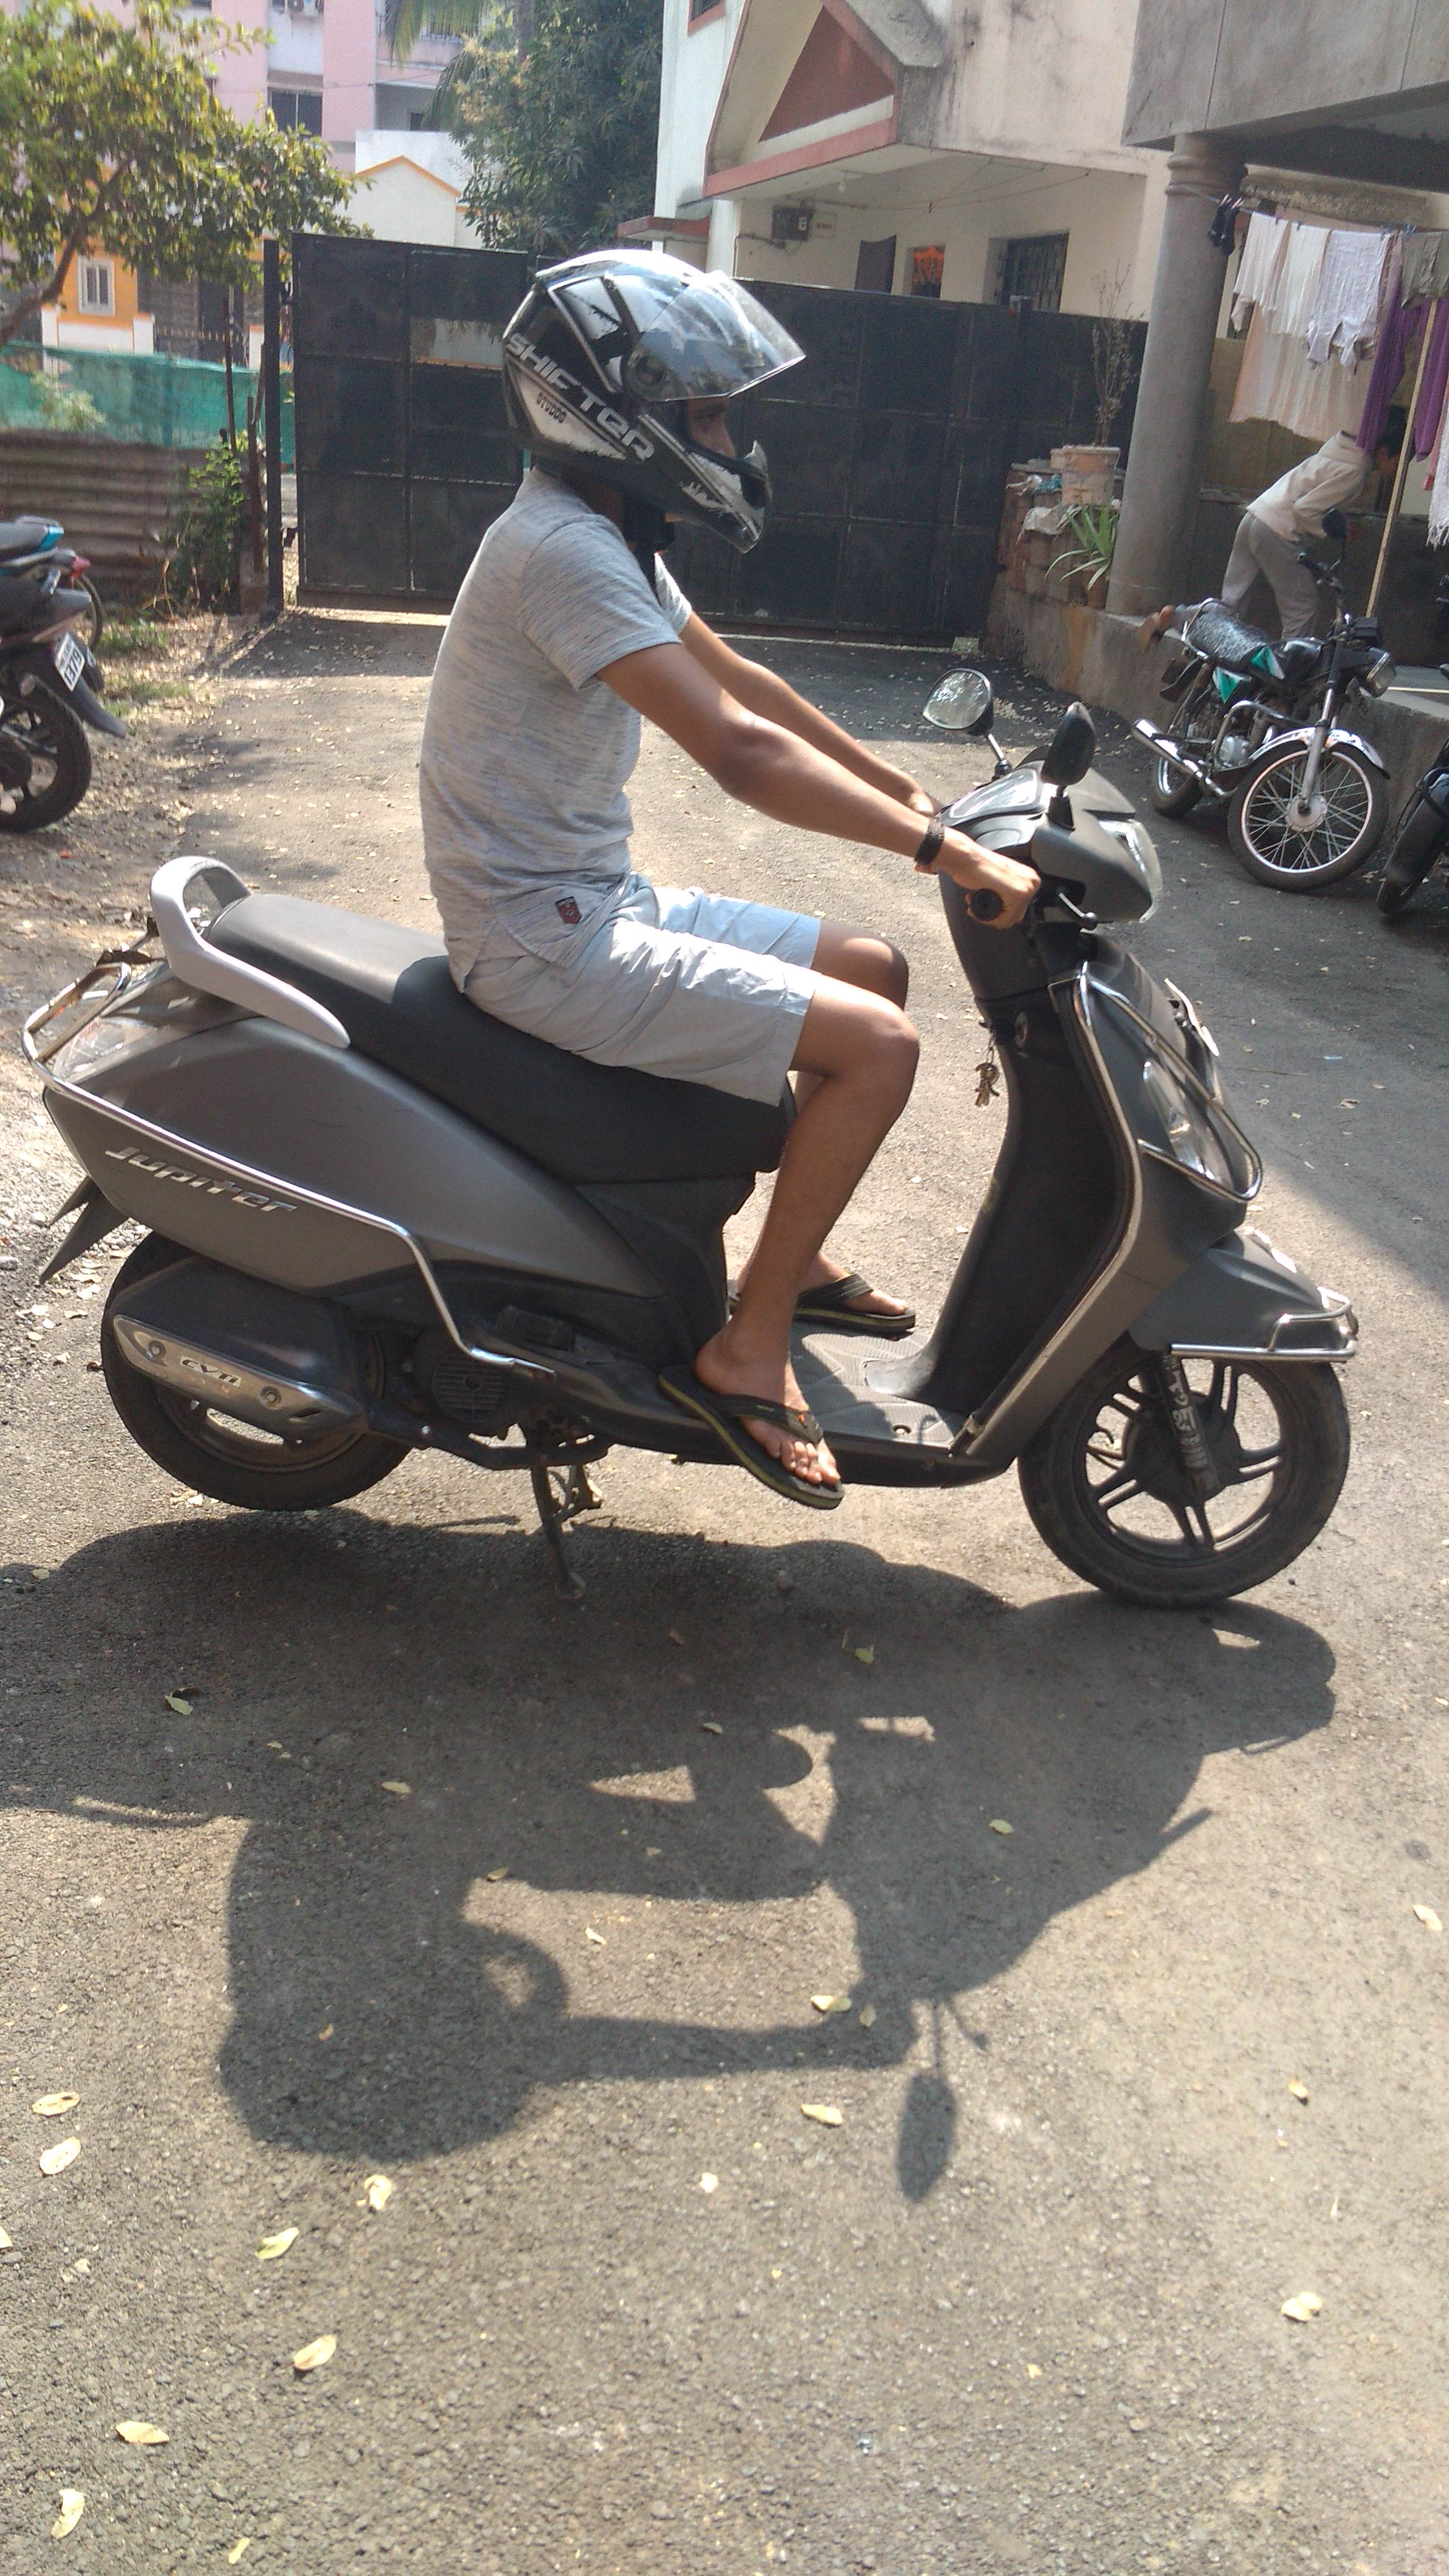helmet: (414, 189, 1058, 1598)
